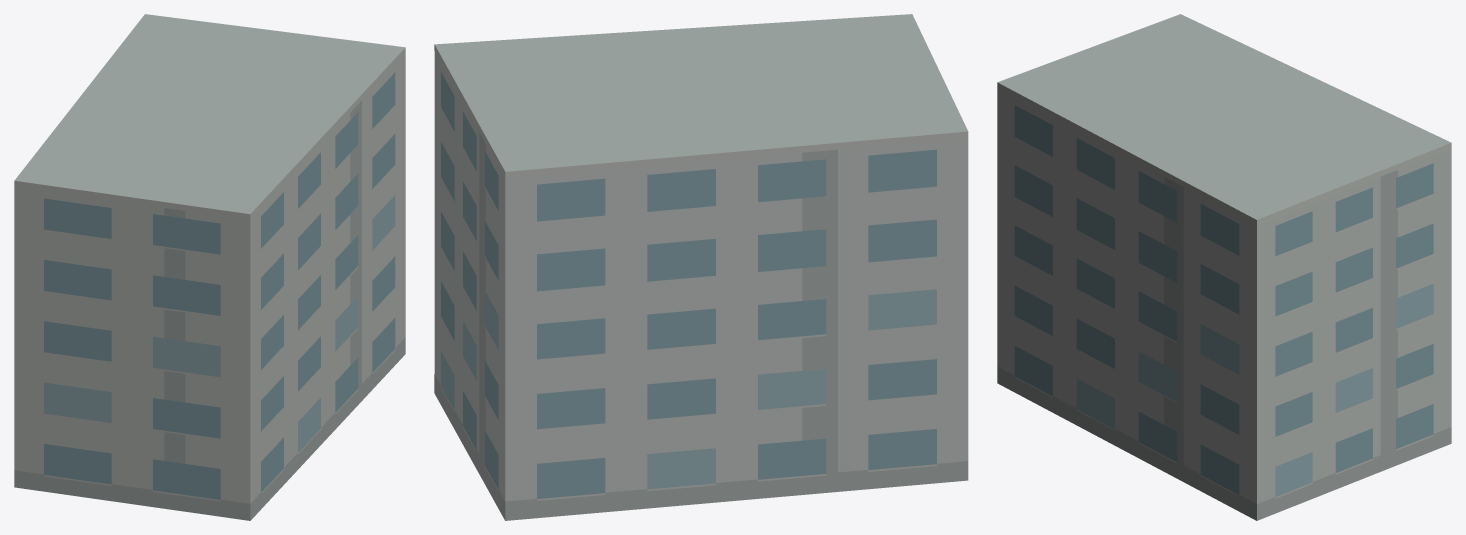
File: survey-upis-32974954.glb
The picture shows the model from 3 angles, left to right: view 1: azimuth 30°, elevation 25°; view 2: azimuth 150°, elevation 25°; view 3: azimuth 270°, elevation 25°; orthographic projection. The views are drawn at different scales.
Visible parts, largest first — view 1: survey-upis-32974954.tmp; view 2: survey-upis-32974954.tmp; view 3: survey-upis-32974954.tmp.
Part boxes in pixels (x1,y1,x2,y2): survey-upis-32974954.tmp: [14, 14, 405, 520]; survey-upis-32974954.tmp: [434, 14, 968, 520]; survey-upis-32974954.tmp: [997, 14, 1451, 520].
Bounding box in the file's own units: 18.58 × 12.65 × 17.32.
